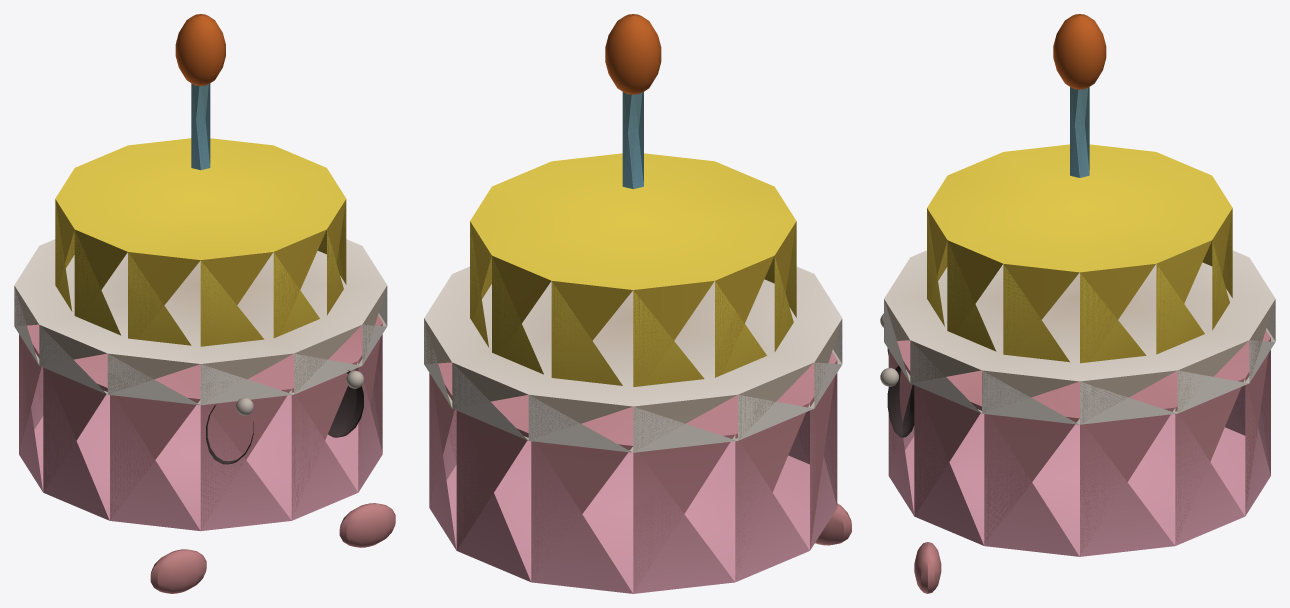
The model's file is p5edb9421.glb.
3 views of the same model, side by side, from view 1: azimuth 30°, elevation 25°; view 2: azimuth 150°, elevation 25°; view 3: azimuth 270°, elevation 25° (orthographic). The views are drawn at different scales.
Parts seen in each view (by area): view 1: pet_p5edb9421; view 2: pet_p5edb9421; view 3: pet_p5edb9421.
Part boxes in pixels (x1=…): pet_p5edb9421: x1=14, y1=14, x2=395, y2=593; pet_p5edb9421: x1=424, y1=14, x2=851, y2=593; pet_p5edb9421: x1=880, y1=14, x2=1275, y2=593.
Bounding box in the file's own units: 0.41 × 0.6072 × 0.4138.
